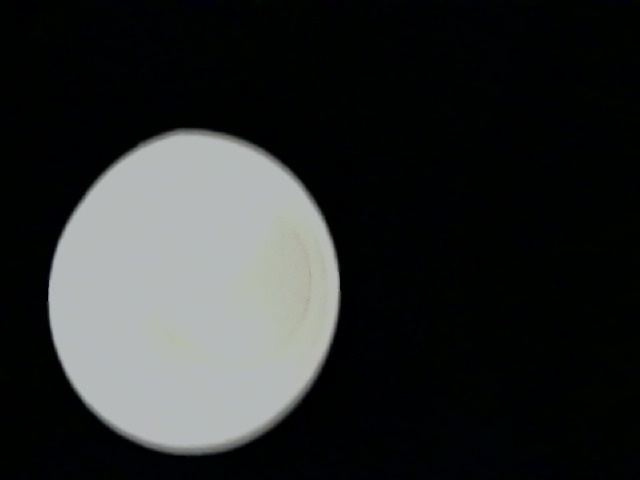KHSLJ: (143, 409, 590, 480)
